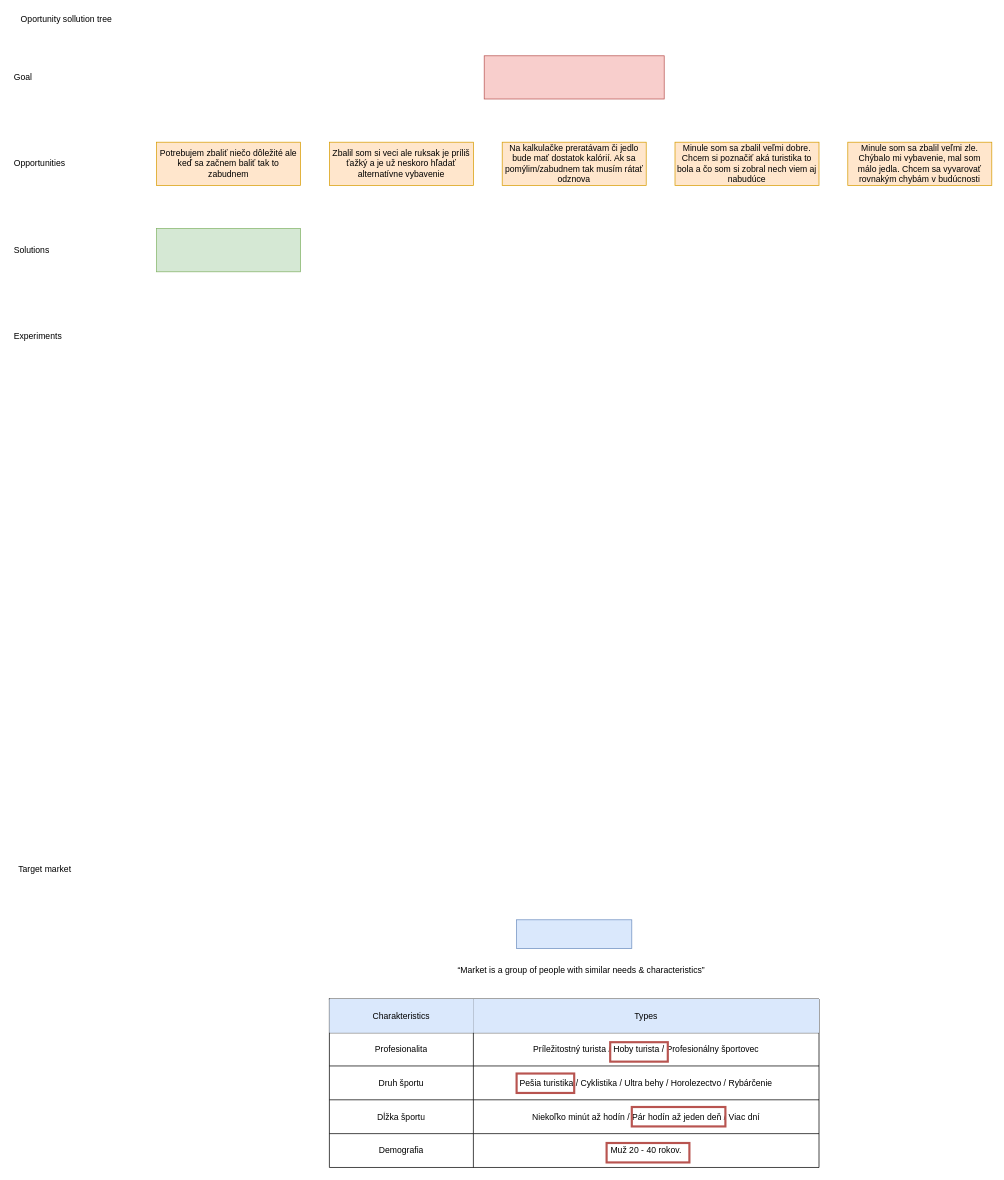
Image size: 1004x1180. Some labels were removed from this diagram. Here are the shapes that lost their labels. From the top down, the centre of each, then its label:
the point at 573,77: Vyrobiť appku ktorá pomôže sa lepšie zbaliť na turistiku a nič nezabudnúť
the point at 574,934: Who are our users? What is our market?
